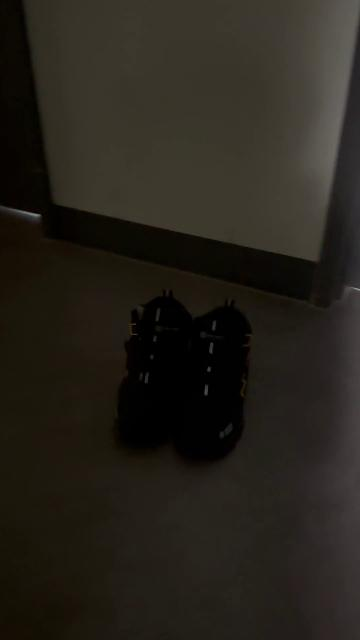shoe_worn: (112, 296, 195, 454), (183, 305, 259, 464)
